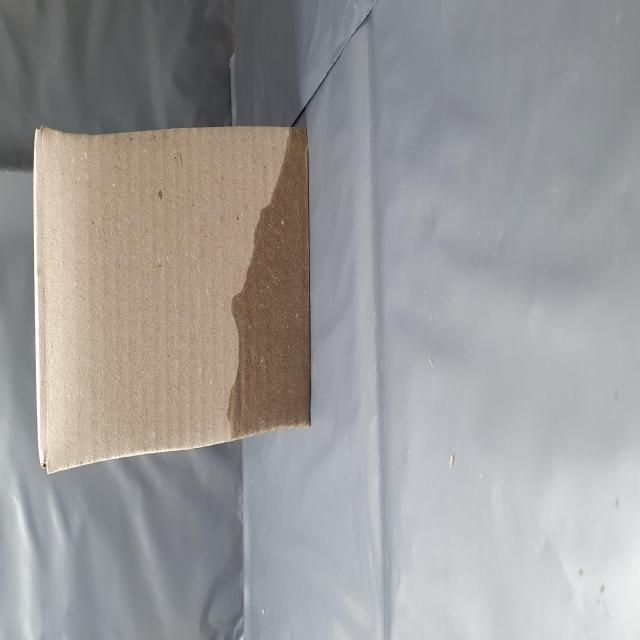wet: (109, 361, 294, 553)
